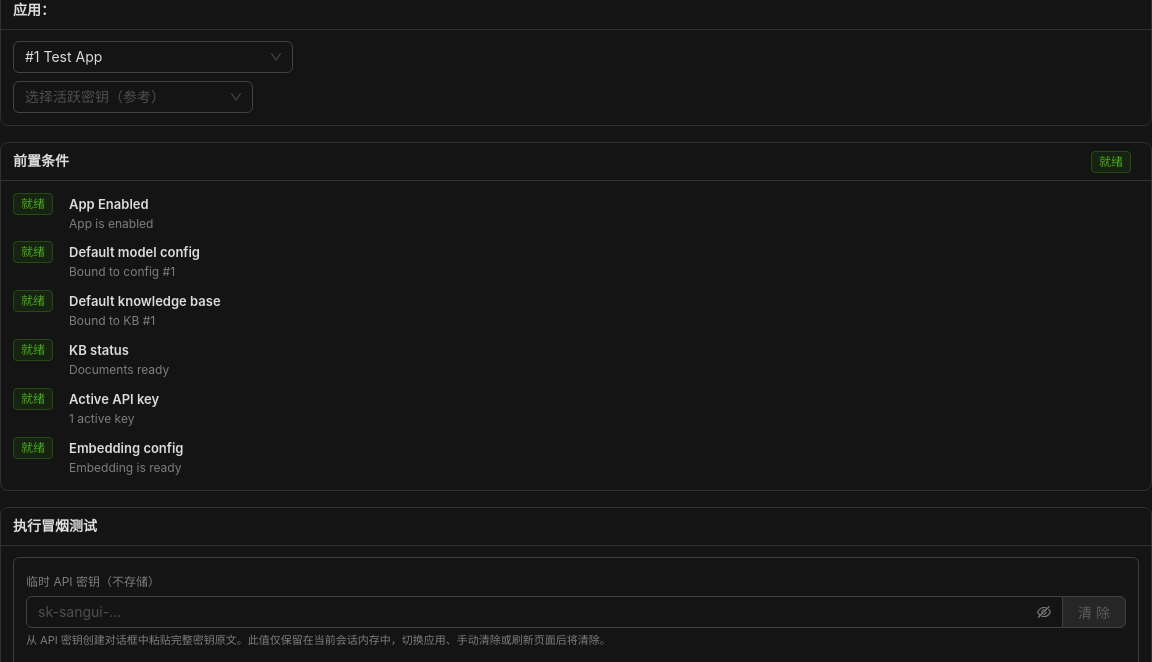
Test: SmokeTestPage › forbidden fields › does not render forbidden strings in DOM after smoke execution
The image size is (1152, 662).
Check: the text "前置条件" is shown, box [13, 152, 69, 169]
In the password field with placeholder "sk-sangui-...": (536, 612) [38, 601, 1033, 623], type "sk-sangui-test-key-12345"
(page scrolled)
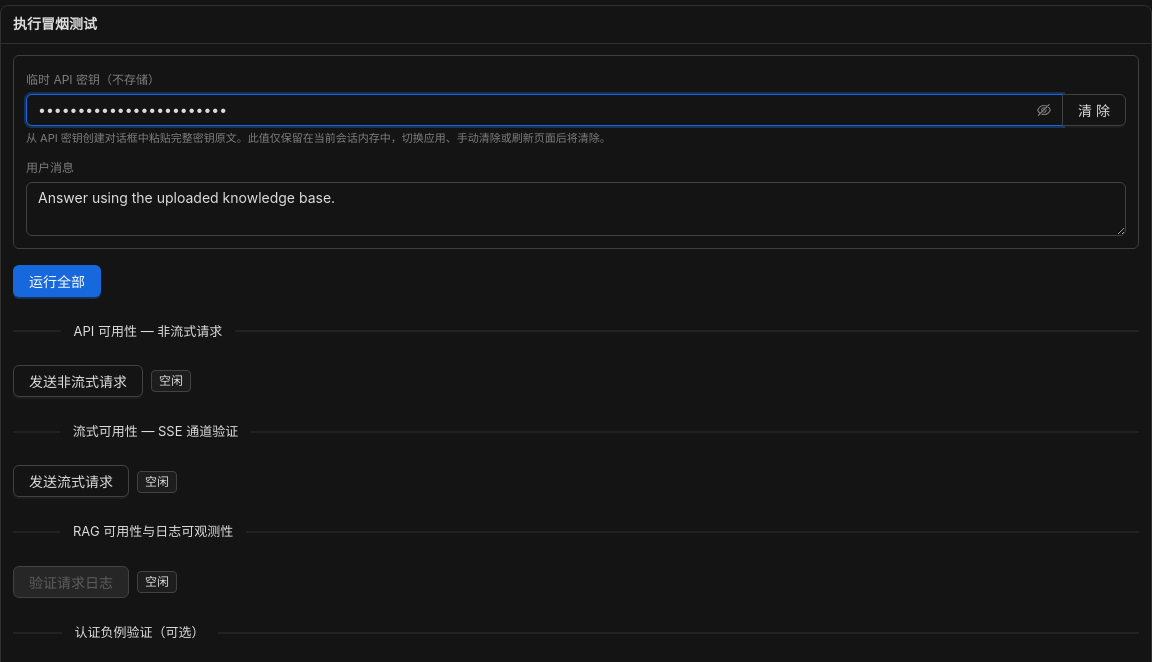
Click the button "发送非流式请求": (78, 381) [13, 365, 143, 397]
(page scrolled)
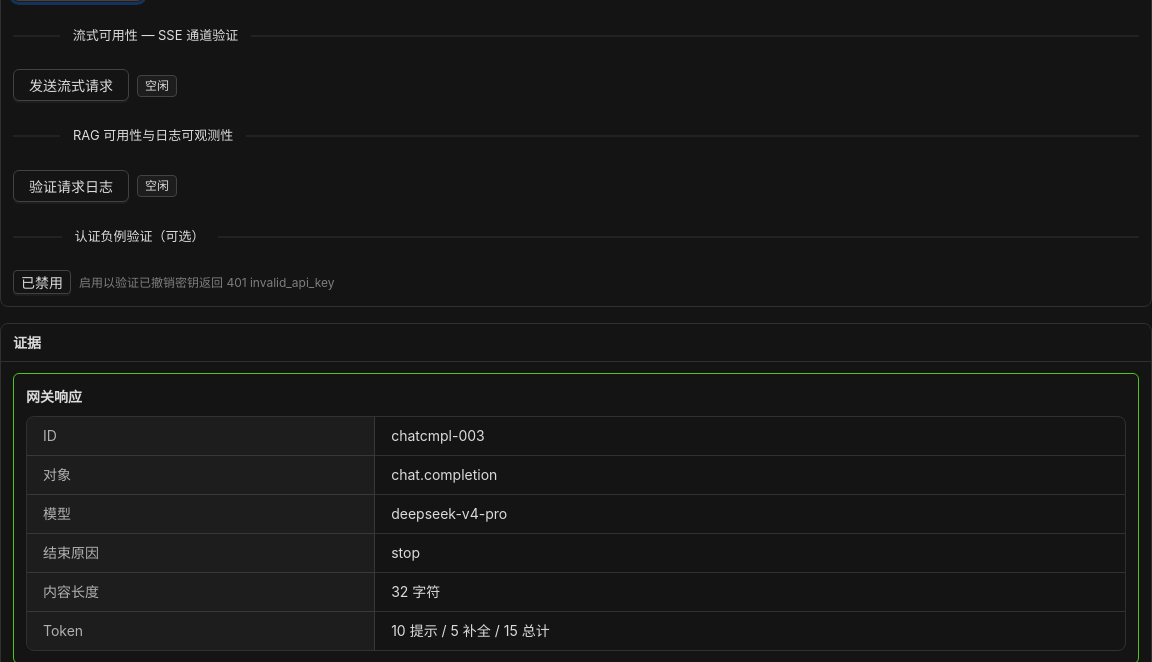
Check: the text "chatcmpl-003" is shown, box [391, 427, 485, 444]
